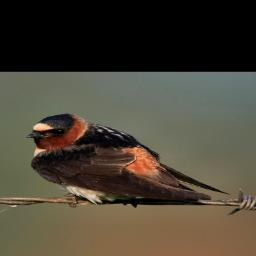Swallow: (25, 112, 233, 208)
